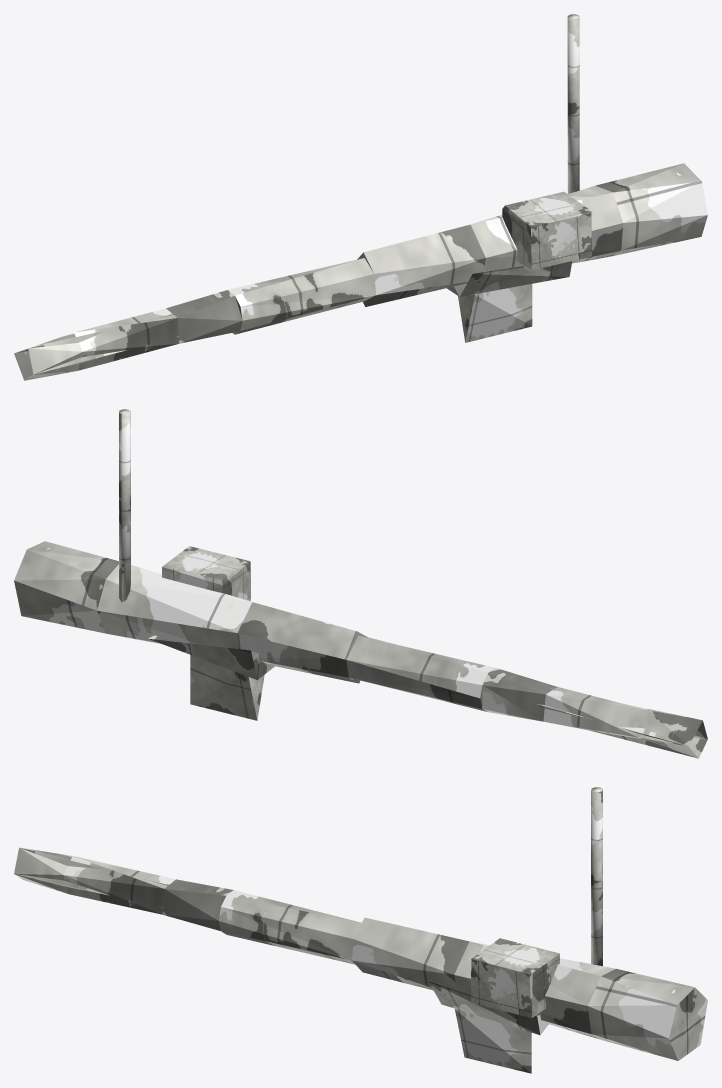
File: light_tank_turret_lod.glb
3 views of the same model, one above another, from view 1: azimuth 30°, elevation 25°; view 2: azimuth 150°, elevation 25°; view 3: azimuth 330°, elevation 25° (orthographic).
Parts seen in each view (by area): view 1: light_tank_turret_lod; view 2: light_tank_turret_lod; view 3: light_tank_turret_lod.
Boxes of the visible parts, box(x1,y1,x2,y2) form: light_tank_turret_lod: box(14, 14, 707, 380); light_tank_turret_lod: box(14, 409, 707, 758); light_tank_turret_lod: box(14, 787, 707, 1073).
Bounding box in the file's own units: 2.23 × 0.9214 × 0.2954.
1 material, 1 textured.
